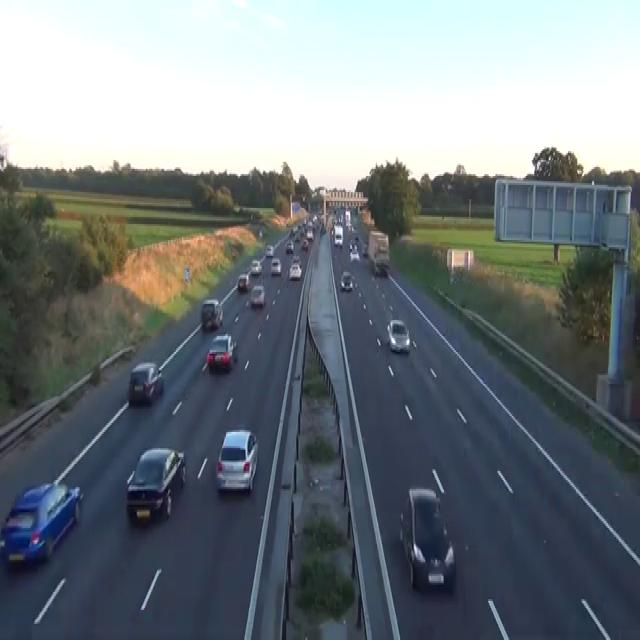Car: (0, 478, 83, 566), (399, 487, 456, 592), (125, 446, 186, 523), (216, 428, 258, 492), (127, 361, 163, 405), (206, 332, 237, 372), (386, 318, 410, 354), (200, 298, 223, 330), (249, 284, 266, 308), (374, 252, 390, 276), (340, 270, 353, 290), (237, 272, 250, 292), (289, 261, 302, 279), (270, 258, 281, 276), (251, 258, 262, 274), (449, 270, 460, 284), (349, 249, 359, 261), (292, 254, 301, 265), (265, 244, 273, 256), (285, 240, 293, 252), (362, 242, 368, 256), (320, 222, 326, 235), (301, 238, 308, 249), (306, 229, 313, 240), (291, 226, 298, 234), (348, 240, 353, 251), (348, 222, 354, 231), (351, 242, 357, 250), (353, 231, 358, 240), (258, 228, 262, 238), (330, 226, 334, 236)
Truck: (367, 230, 390, 276)
